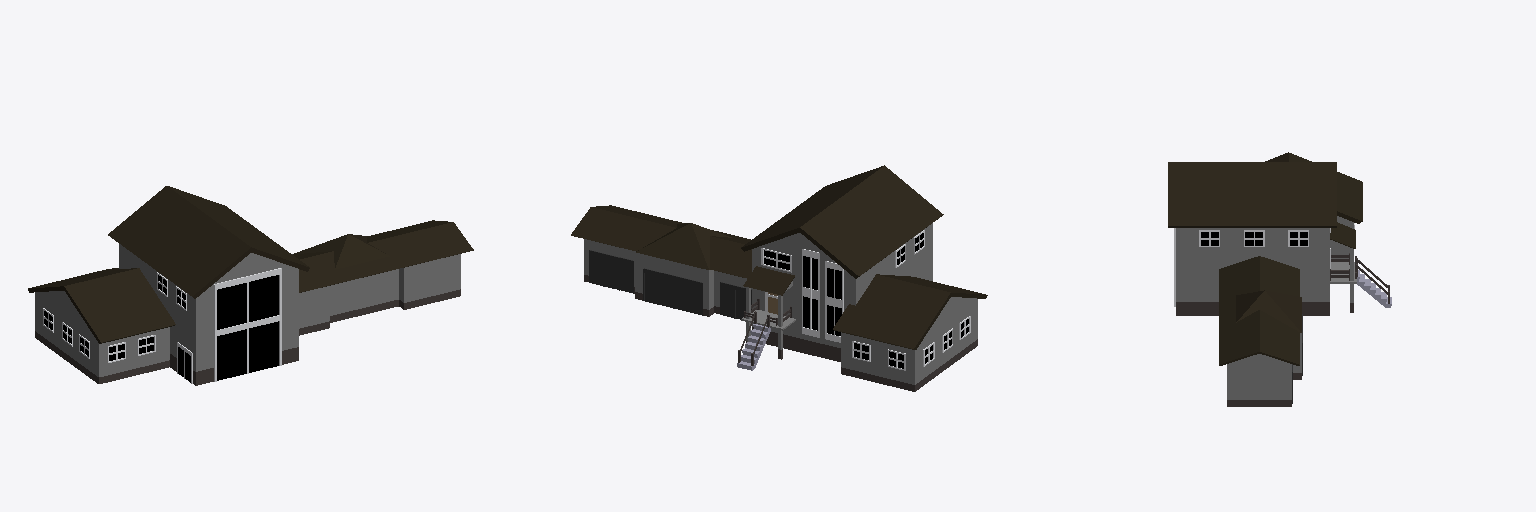
The model's file is House5.model.obj.
The picture shows the model from 3 angles: view 1: azimuth 30°, elevation 25°; view 2: azimuth 150°, elevation 25°; view 3: azimuth 270°, elevation 25°; orthographic projection.
Size of the model in its own units: 12.64 by 4.15 by 6.55.